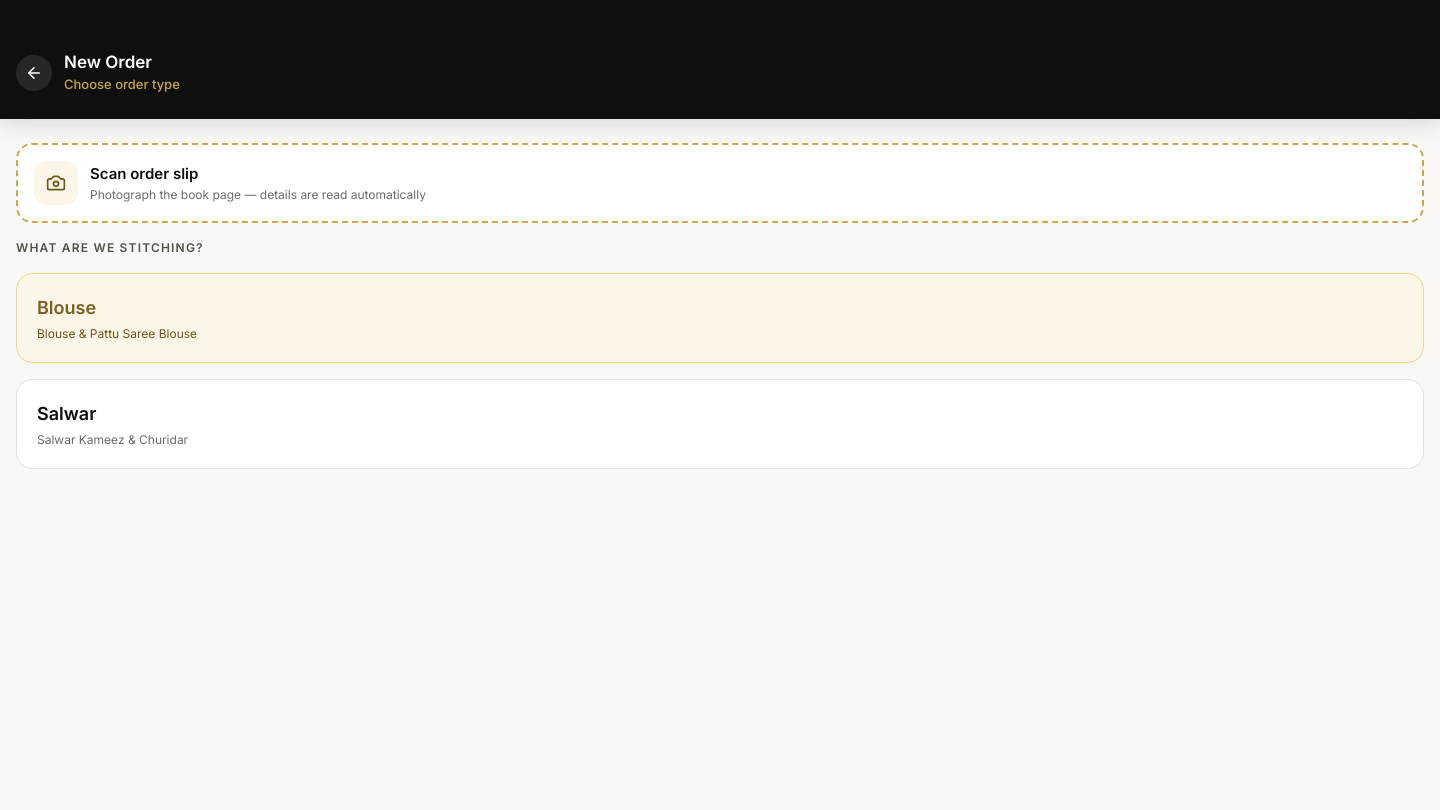
NewOrderWizard › recomputes fabric cost when the metres field changes
Click the text "Blouse" at (67, 307), box [37,297,96,318]
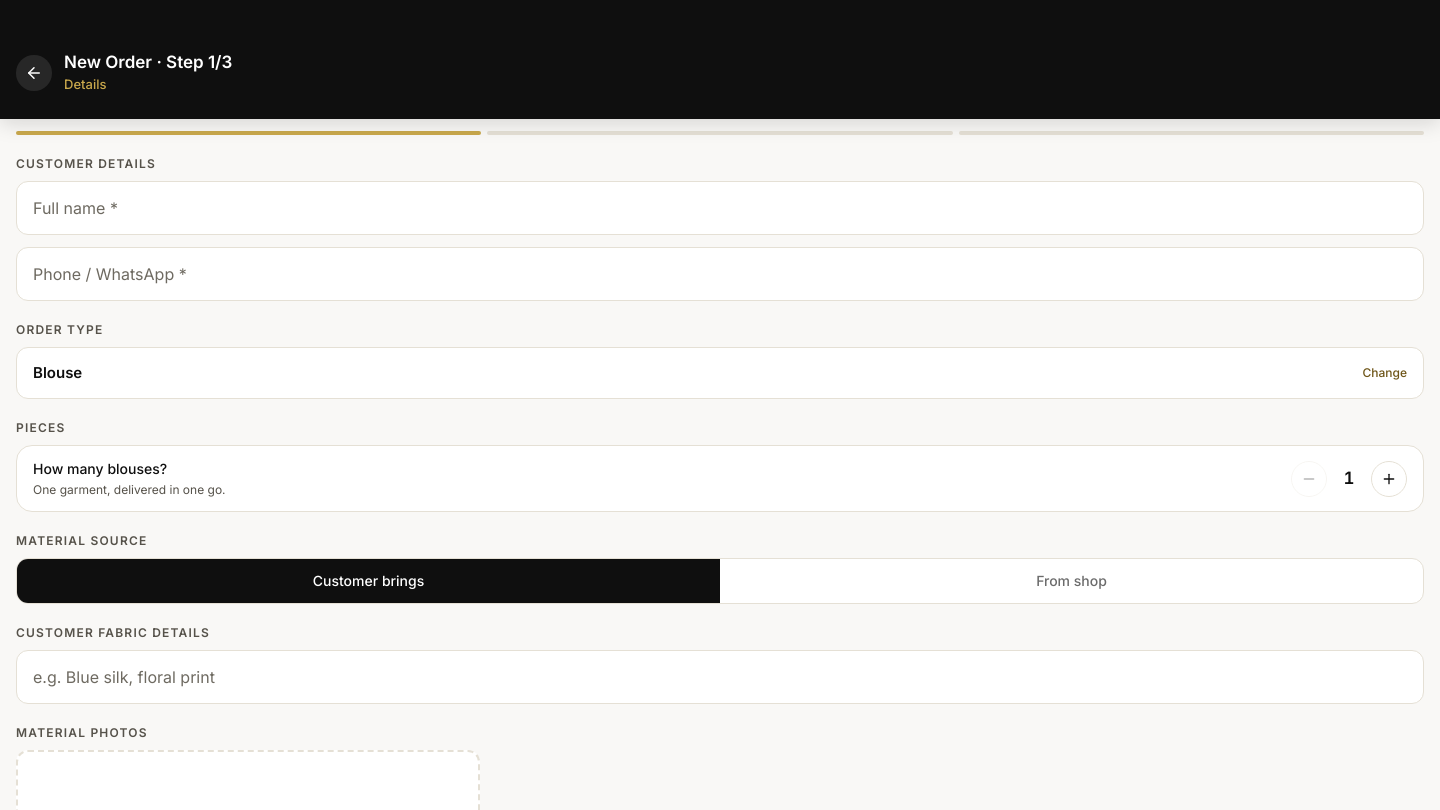
Click the button "From shop" at (1072, 581), box [720,559,1423,603]
(page scrolled)
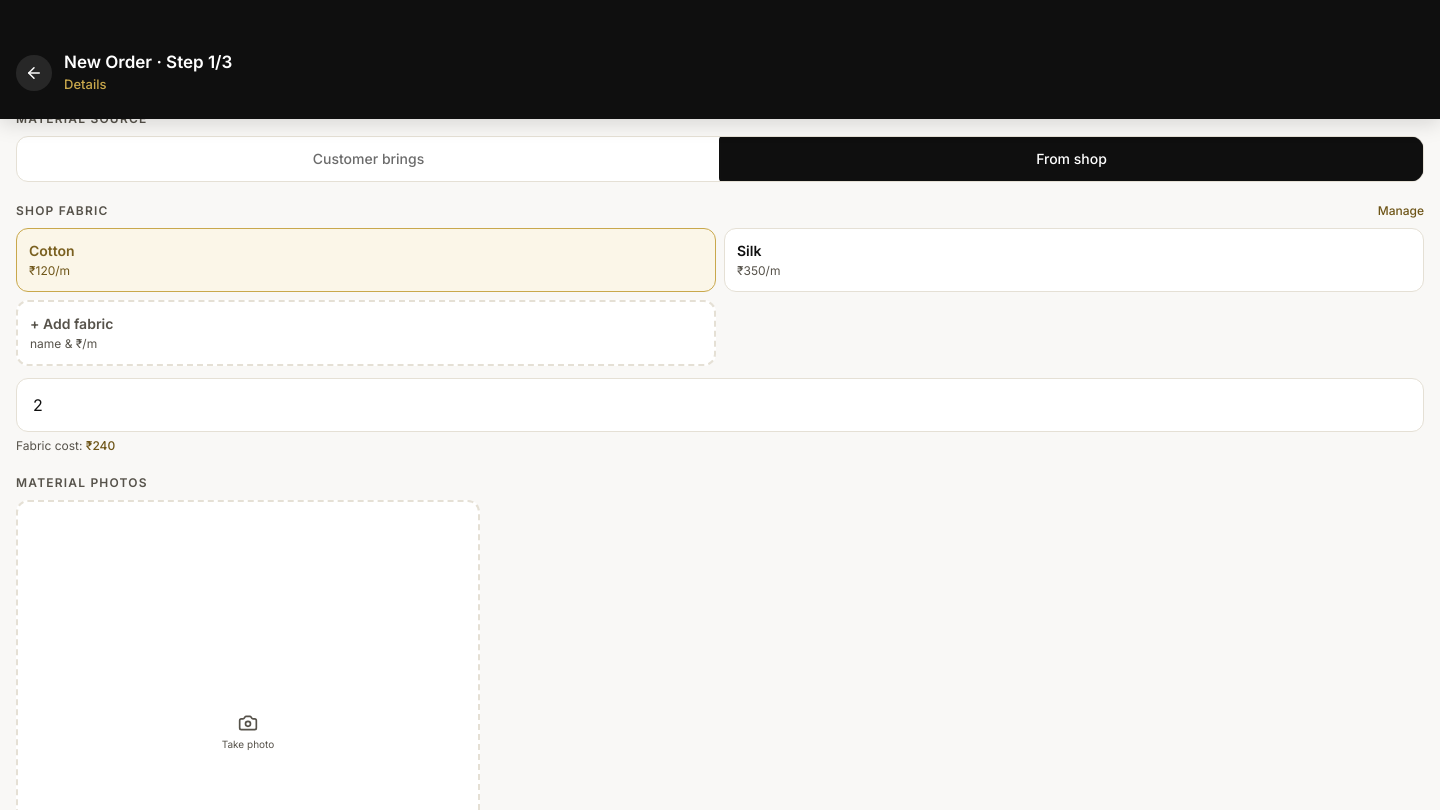
Replace the text in the number field with placeholder "Metres required" with "3" at (720, 405), box [16,378,1424,432]
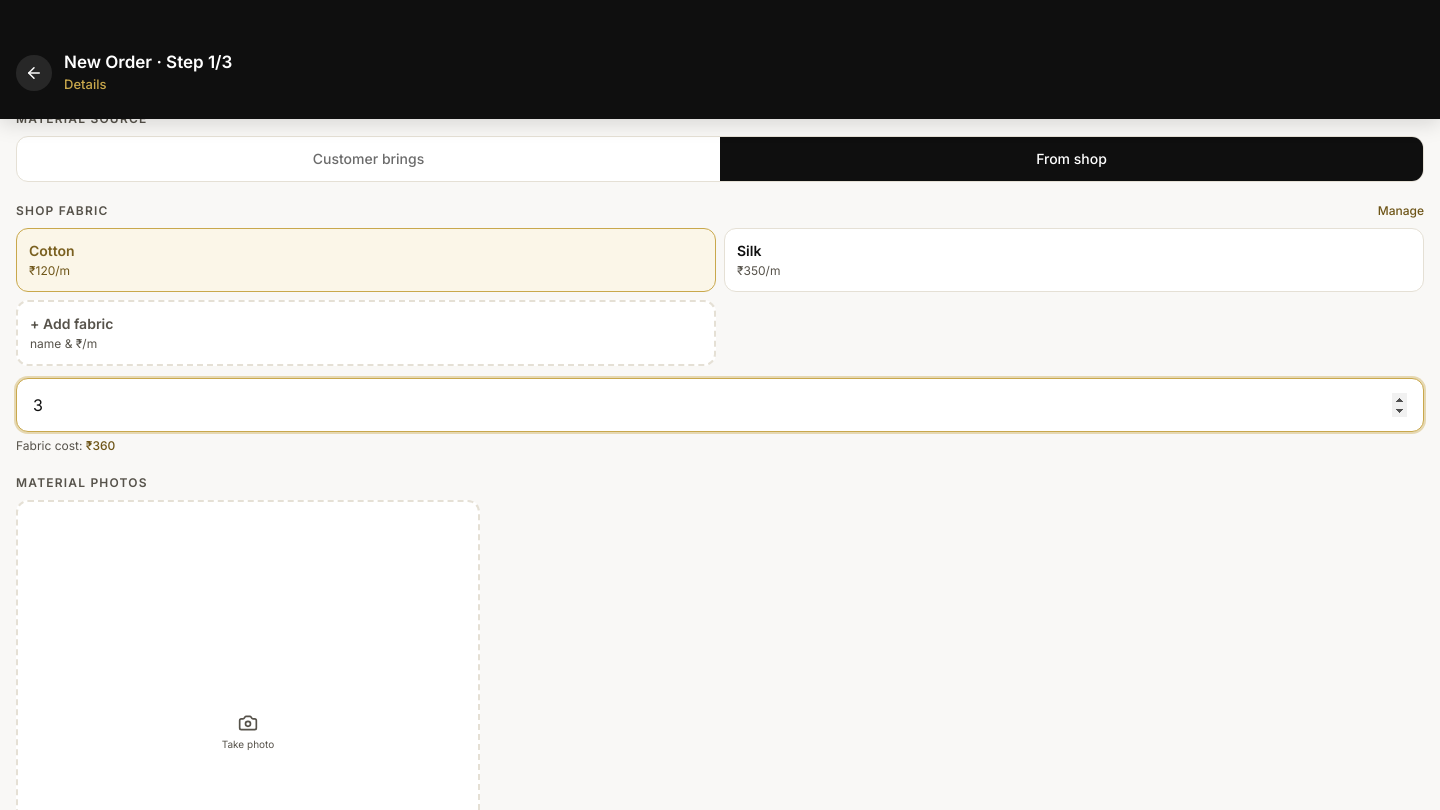
Expected: the text "Fabric cost: ₹360" is shown, [16,438,115,453]
